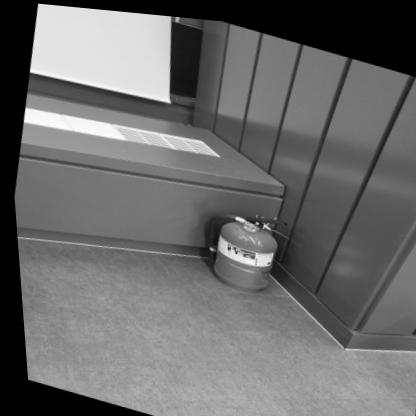FE: (194, 195, 285, 296)
